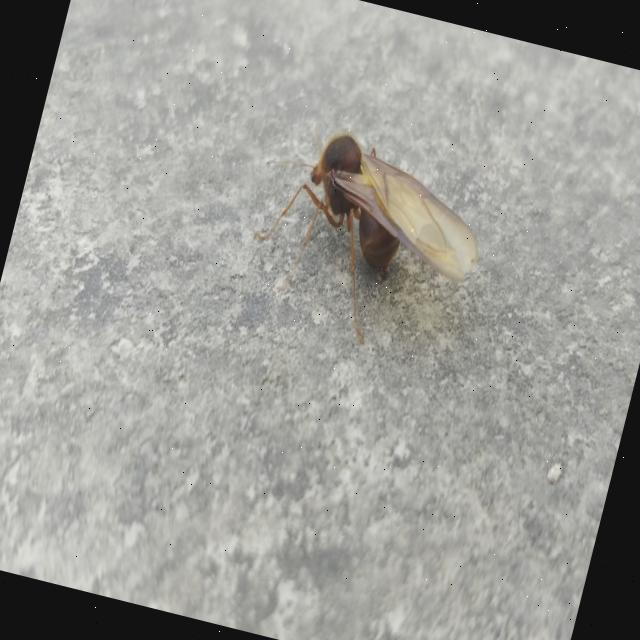Alive-Male-Alate: (229, 112, 500, 365)
